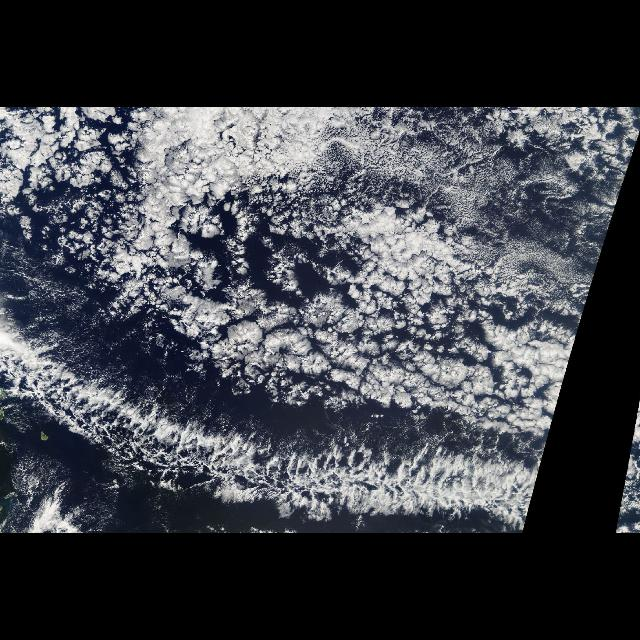Fish: (1, 292, 548, 528)
Flower: (138, 208, 516, 430)
